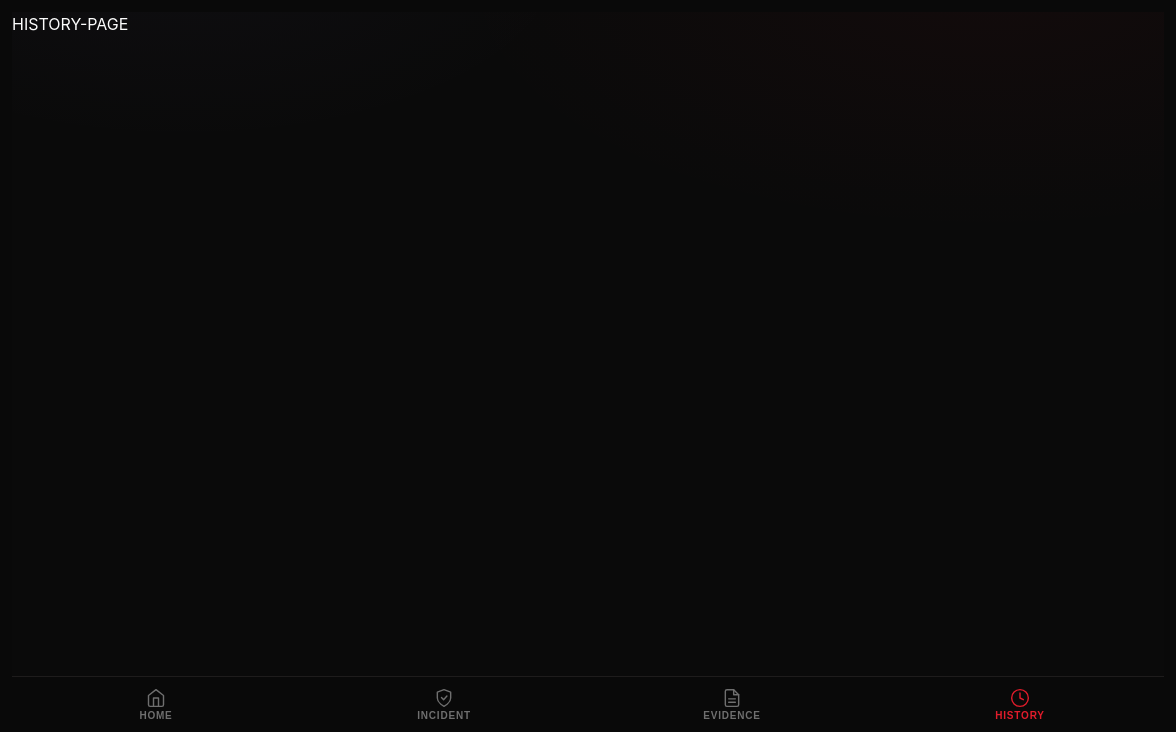
Test case: BottomNav - Reachable destinations › navigates to Home
Click the button "Home".
click(156, 704)  # box [12,677,300,731]
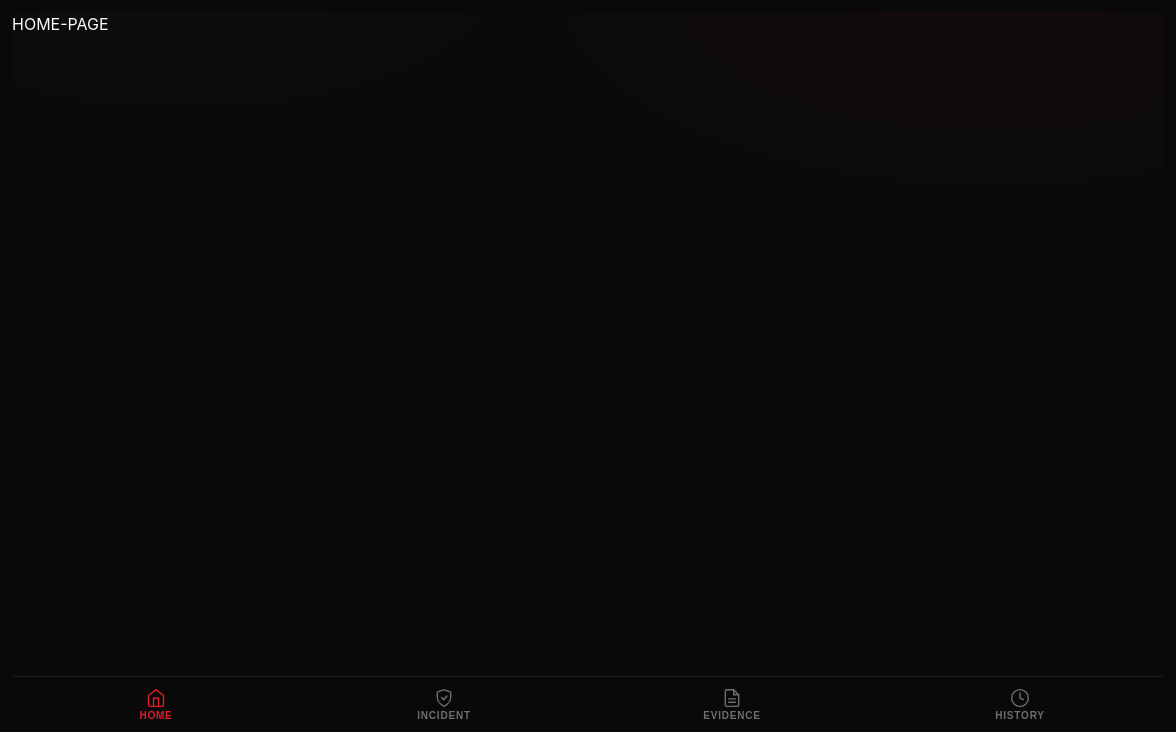
Check: the text "HOME-PAGE" is shown, box [12,14,109,34]
